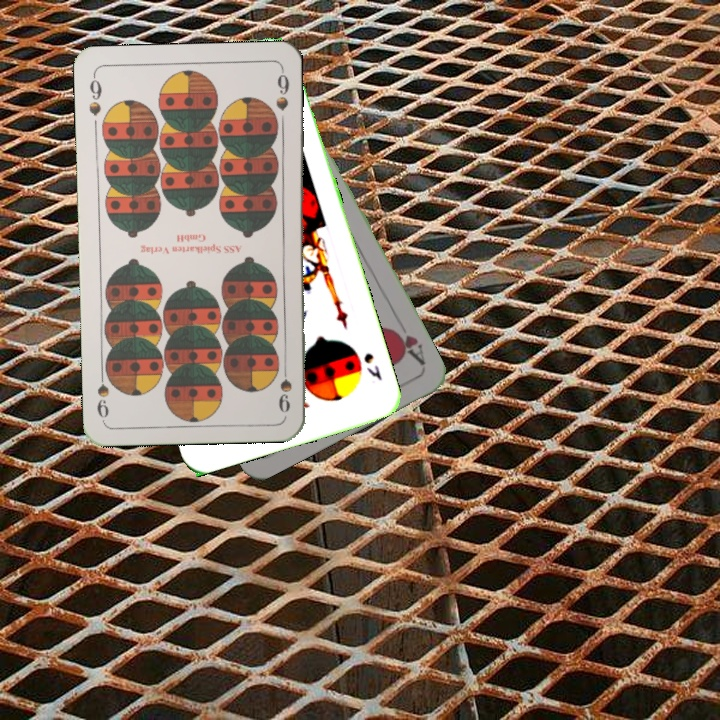HA: (386, 323, 428, 368)
S9: (275, 356, 295, 415), (85, 71, 105, 119)
SK: (359, 348, 385, 384)
